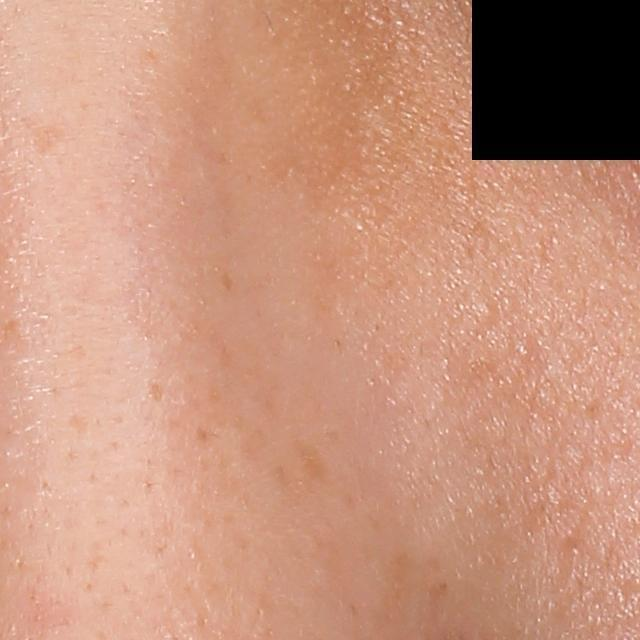comedo: (480, 301, 498, 322)
melasma: (19, 112, 78, 157), (292, 433, 337, 490), (147, 379, 167, 407), (221, 270, 236, 291)
